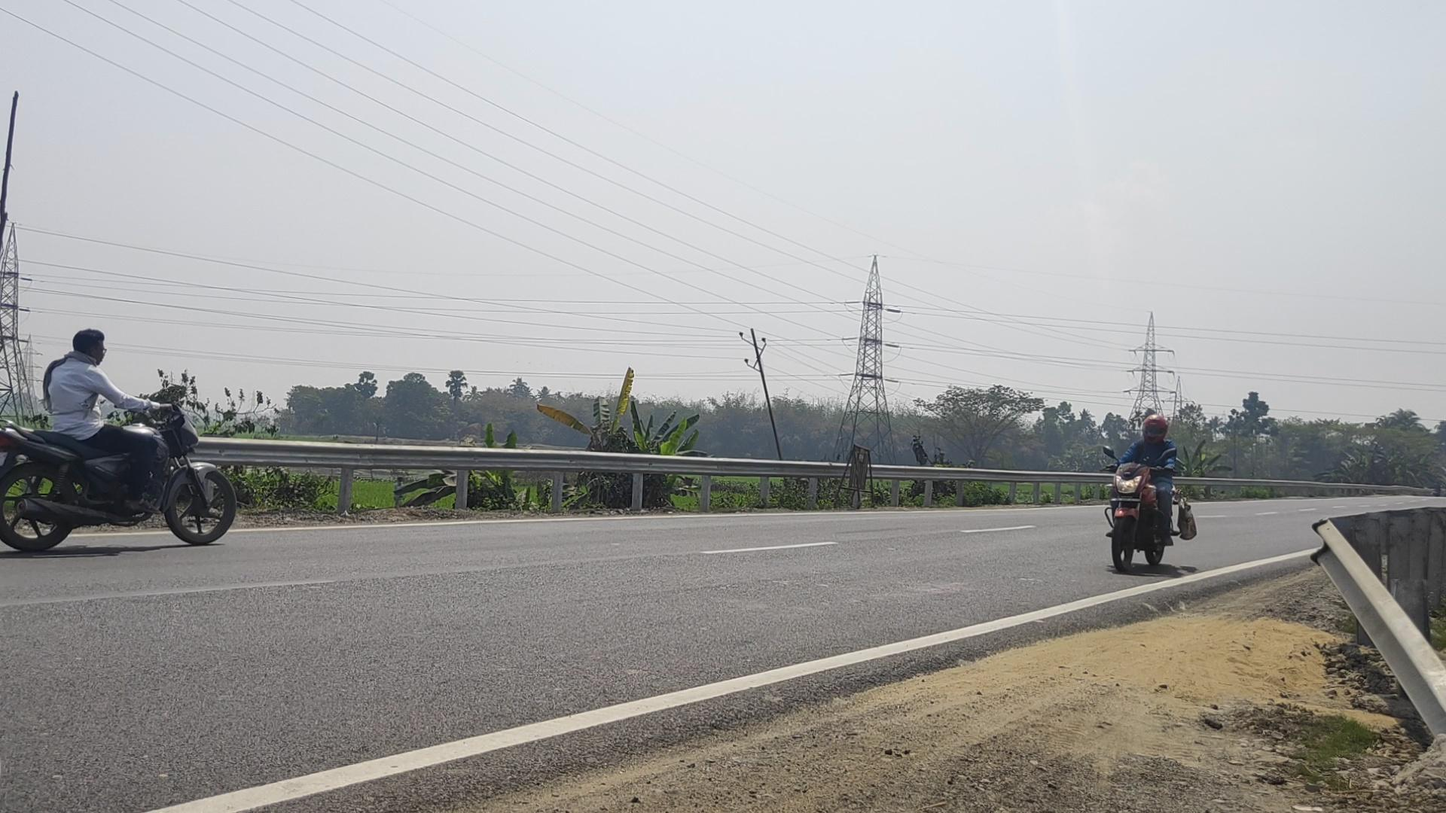bike: (1, 329, 237, 555), (1103, 415, 1197, 573)
